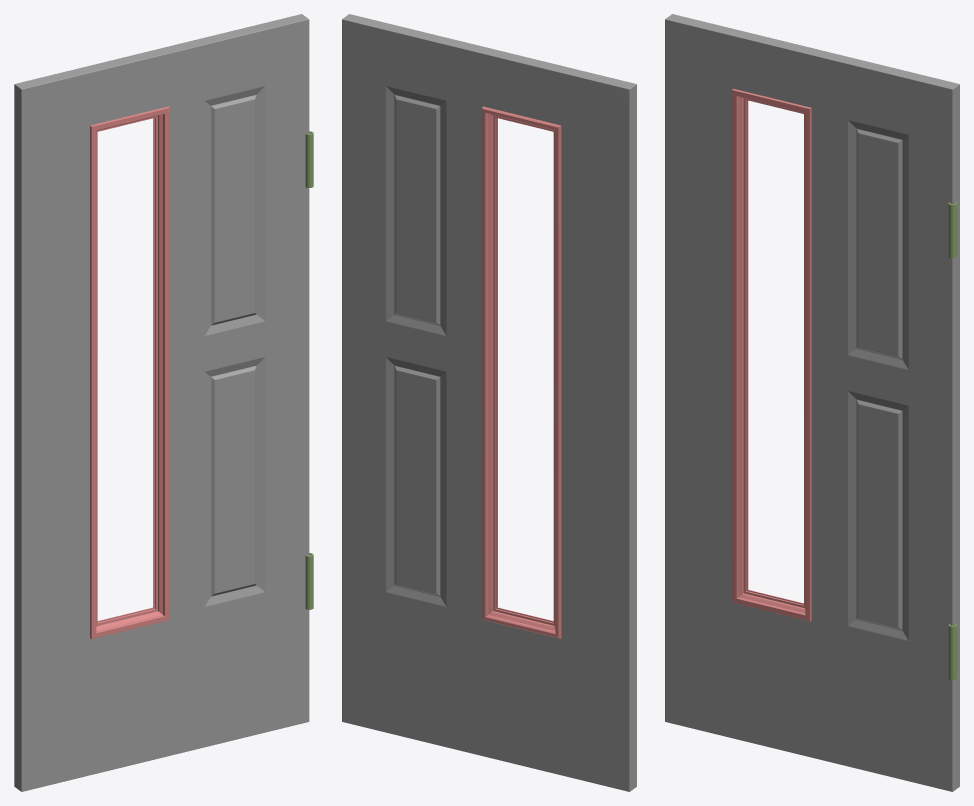
The model's file is HP_LabDoor_01.fbx.
3 views of the same model, side by side, from view 1: azimuth 30°, elevation 25°; view 2: azimuth 150°, elevation 25°; view 3: azimuth 330°, elevation 25° (orthographic).
Visible parts, largest first — view 1: polySurface532; view 2: polySurface532; view 3: polySurface532.
Part boxes in pixels (x1=…): polySurface532: x1=14, y1=14, x2=313, y2=791; polySurface532: x1=342, y1=14, x2=636, y2=791; polySurface532: x1=665, y1=14, x2=959, y2=791.
Size of the model in its own units: 91.16 by 210 by 5.97.
